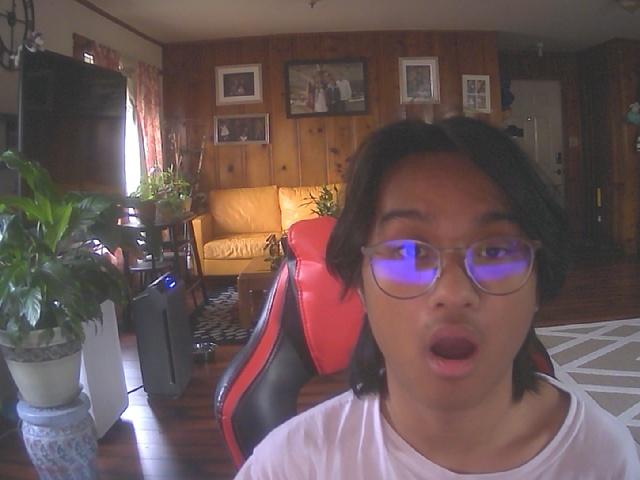fear: (349, 133, 556, 411)
